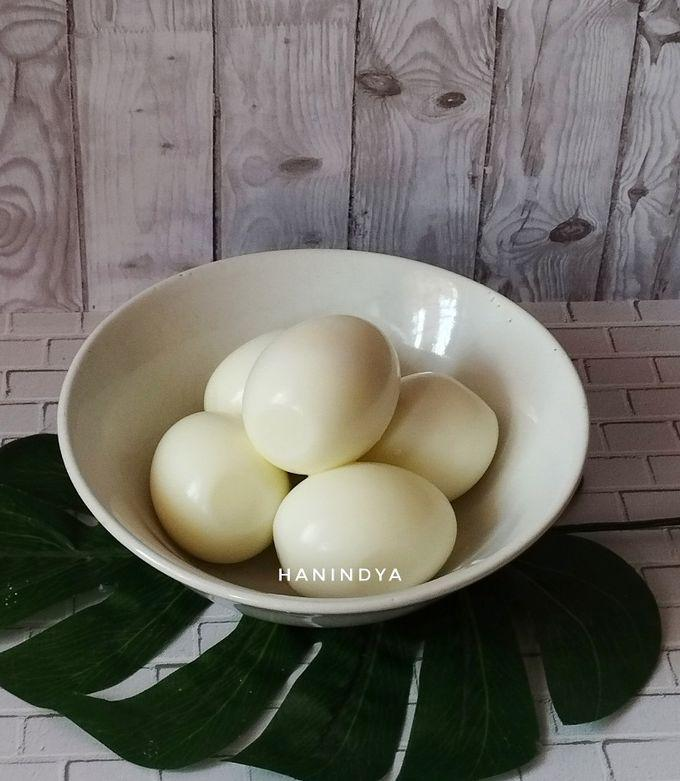telur: (297, 486, 437, 558), (284, 329, 367, 431), (171, 429, 245, 530), (402, 392, 475, 465), (217, 364, 242, 410)
